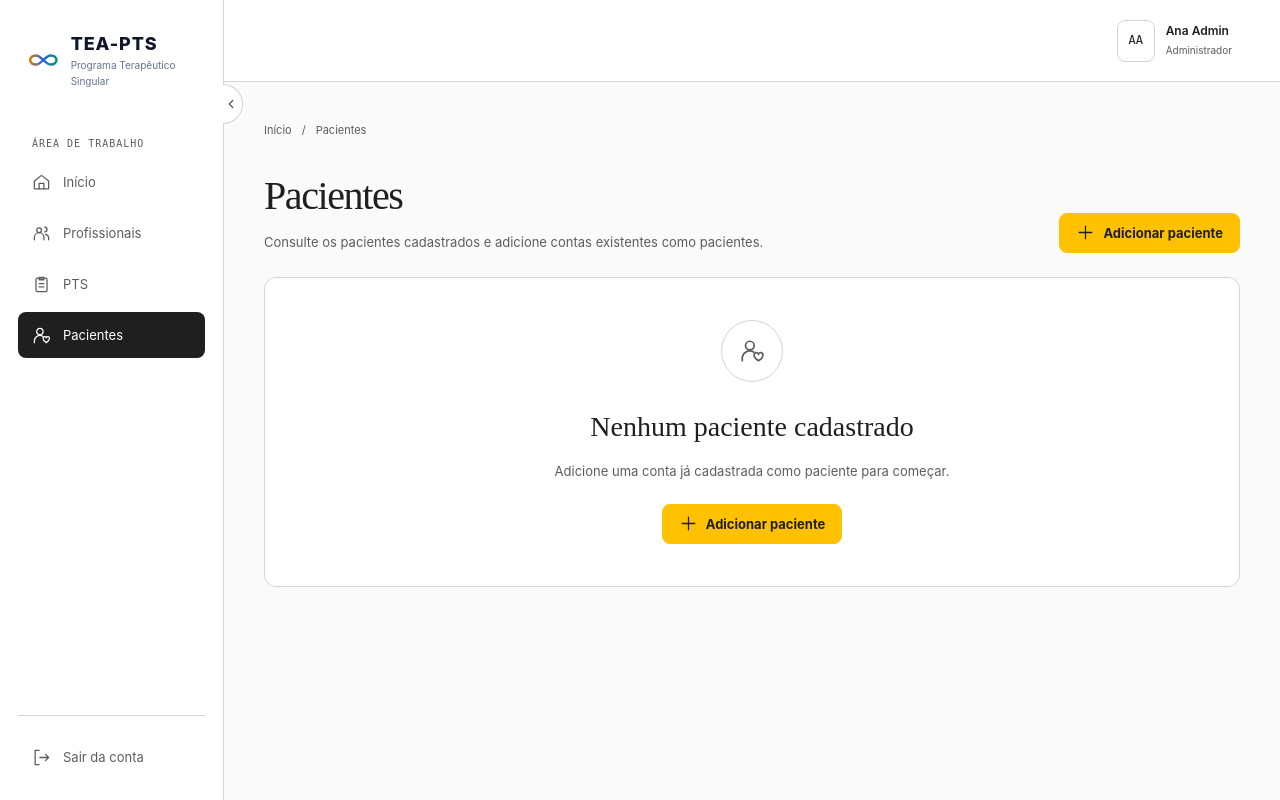
Test: PatientsPage › acesso e lista › avisa quando não há pacientes e abre o modal pelo vazio
The image size is (1280, 800).
Expected: the heading "Nenhum paciente cadastrado" is shown, x1=590 y1=405 x2=914 y2=448
Click the button "Adicionar paciente" below "Nenhum paciente cadastrado": (752, 524) x1=662 y1=504 x2=842 y2=544
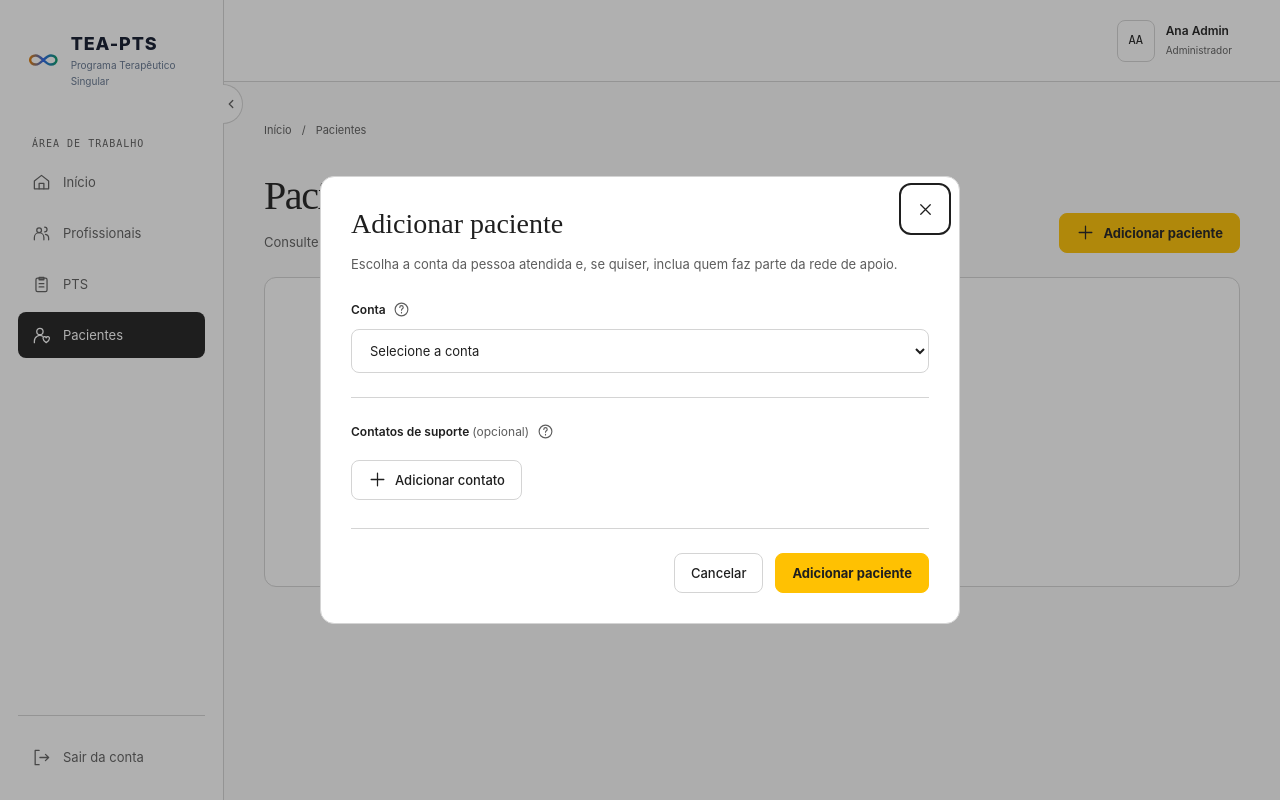
Result: the dialog is shown at x1=320 y1=176 x2=960 y2=624
